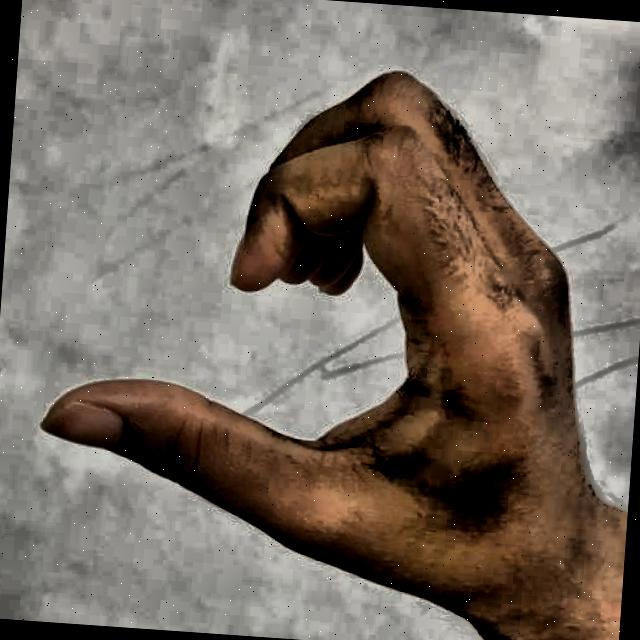Kha: (9, 0, 632, 636)
